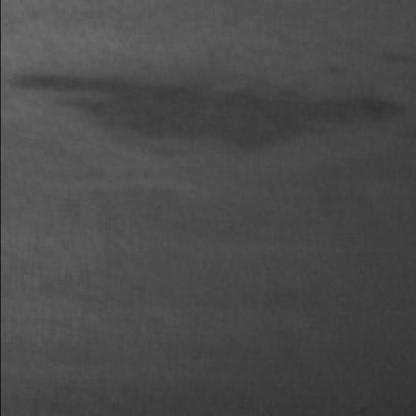inclusion: (8, 66, 412, 156)
